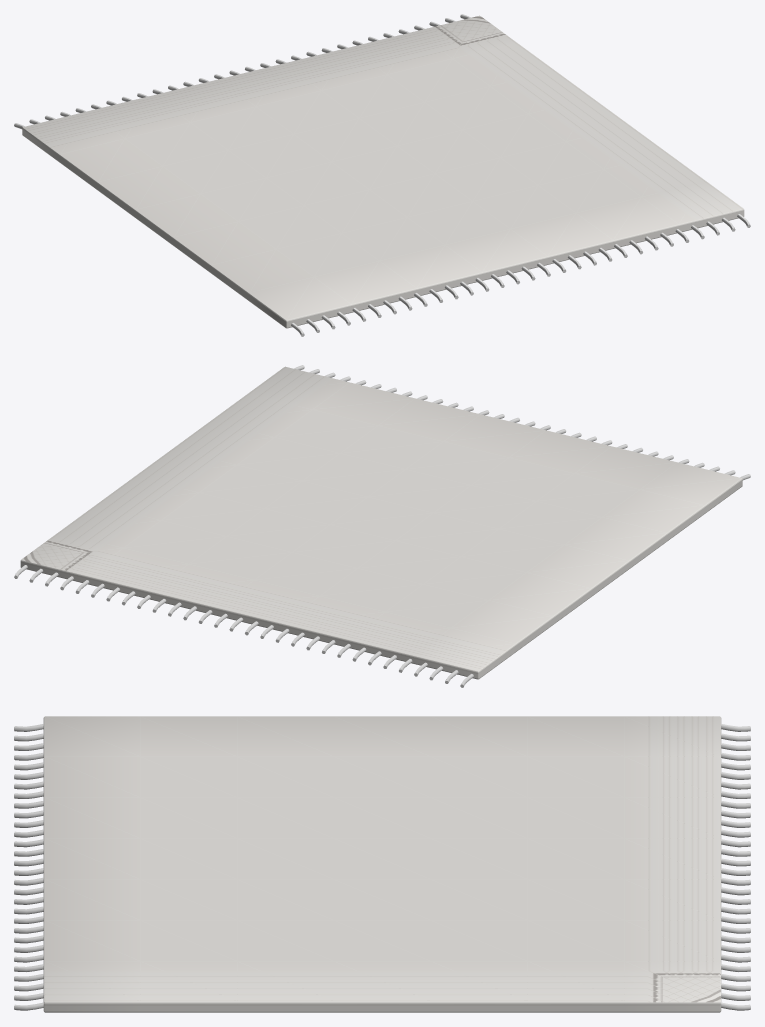
File: hearth_rug.fbx
3 renders of one model, top to bottom at view 1: azimuth 30°, elevation 25°; view 2: azimuth 150°, elevation 25°; view 3: azimuth 270°, elevation 25°, orthographic. The views are drawn at different scales.
Parts seen in each view (by area): view 1: hearth_rug; view 2: hearth_rug; view 3: hearth_rug.
Boxes of the visible parts, x1,y1,x2,y2 form: hearth_rug: (14,14,750,336); hearth_rug: (14,365,750,687); hearth_rug: (14,716,750,1012).
Size of the model in its own units: 8.9 by 0.1708 by 9.68.
